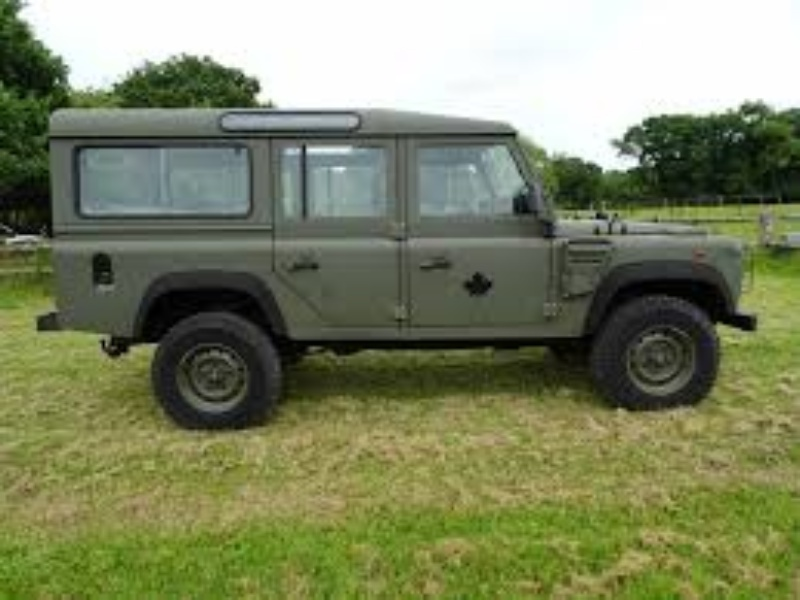jeep: (37, 106, 761, 438)
